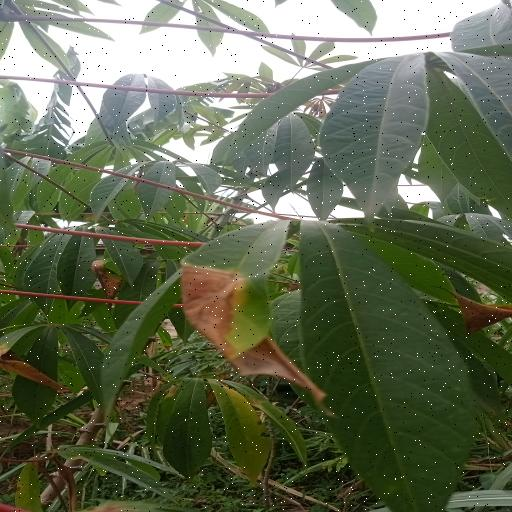Cassava_Root_Rot: (171, 215, 511, 512)
